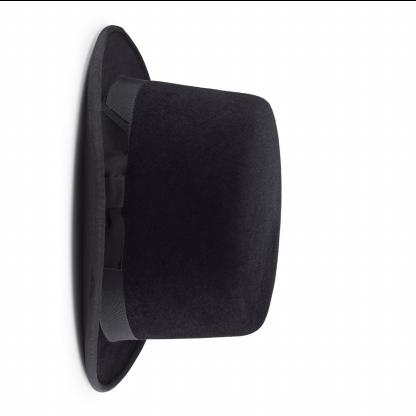hat: (70, 19, 288, 395)
